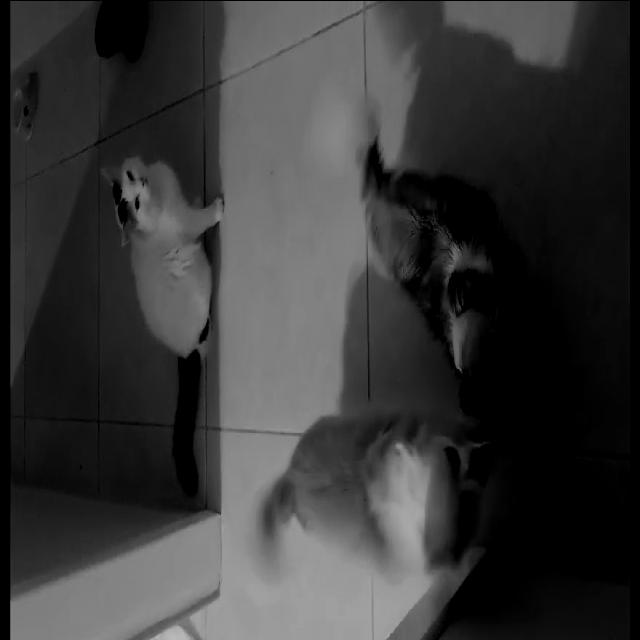Pedrita: (316, 106, 528, 412)
Simba: (49, 76, 256, 398)
Theo: (234, 370, 516, 594)
